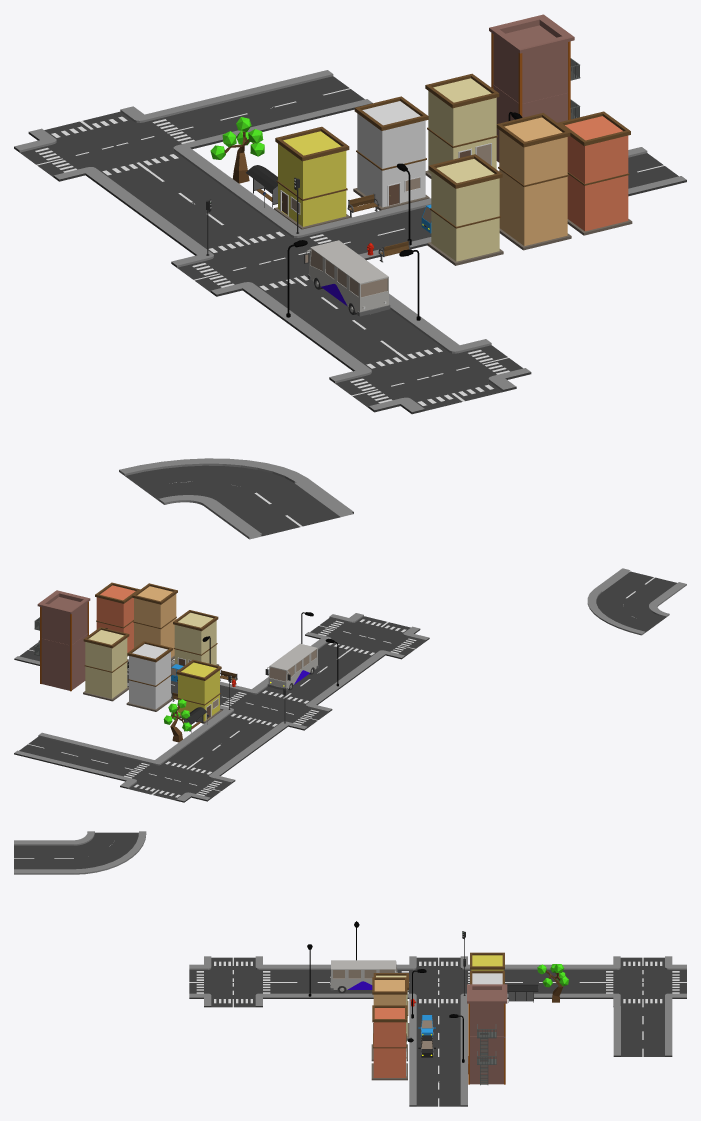
The model's file is low poly city assets.fbx.
3 renders of one model, top to bottom at view 1: azimuth 30°, elevation 25°; view 2: azimuth 150°, elevation 25°; view 3: azimuth 270°, elevation 25°, orthographic. The views are drawn at different scales.
Visible parts, largest first — view 1: Road Curve, Road Cross.002, Road Cross.001, Road.002, Building.001, Building Tp 2, Road Cross, Road.001, Building.005, Road.003, Building.003, Building.002 (+6 smaller); view 2: Building Tp 2, Road Curve, Road Cross.001, Road.002, Road Cross.002, Road Cross, Building.006, Road.003, Building.002, Building.001, Road.001, Building.003 (+4 smaller); view 3: Road Curve, Road Cross.001, Road Cross.002, Building Tp 2, Road Cross, Road.003, Road.005, Building.005, Road.002, Road, Road.001, Bus (+5 smaller).
Part boxes in pixels (<box>): Road Curve: <box>119,458,353,539</box>; Road Cross.002: <box>329,337,531,414</box>; Road Cross.001: <box>14,106,215,183</box>; Road.002: <box>96,155,290,248</box>; Building.001: <box>496,113,571,250</box>; Building Tp 2: <box>489,14,580,162</box>; Road Cross: <box>171,221,373,298</box>; Road.001: <box>254,284,448,364</box>; Building.005: <box>557,111,632,235</box>; Road.003: <box>171,70,372,143</box>; Building.003: <box>427,154,503,265</box>; Building.002: <box>353,96,429,210</box>; Building Tp 2: <box>34,590,90,691</box>; Road Curve: <box>587,568,686,635</box>; Road Cross.001: <box>110,755,235,802</box>; Road.002: <box>162,714,281,771</box>; Road Cross.002: <box>305,613,429,659</box>; Road Cross: <box>217,684,332,731</box>; Building.006: <box>83,627,129,701</box>; Road.003: <box>14,732,137,777</box>; Building.002: <box>126,641,173,711</box>; Building.001: <box>132,583,177,660</box>; Road.001: <box>259,643,378,700</box>; Building.003: <box>173,610,219,665</box>; Road Curve: <box>14,831,146,874</box>; Road Cross.001: <box>598,956,686,1007</box>; Road Cross.002: <box>189,956,277,1007</box>; Building Tp 2: <box>467,984,507,1085</box>; Road Cross: <box>396,956,471,1007</box>; Road.003: <box>613,1006,672,1056</box>; Road.005: <box>409,1055,467,1106</box>; Building.005: <box>371,1005,407,1080</box>; Road.002: <box>503,964,599,998</box>; Road: <box>409,1006,467,1056</box>; Road.001: <box>277,964,373,998</box>; Bus: <box>330,960,397,993</box>.
Bounding box in the file's own units: 982 × 159 × 1144.
Materials: 45 (1 with a texture image).
